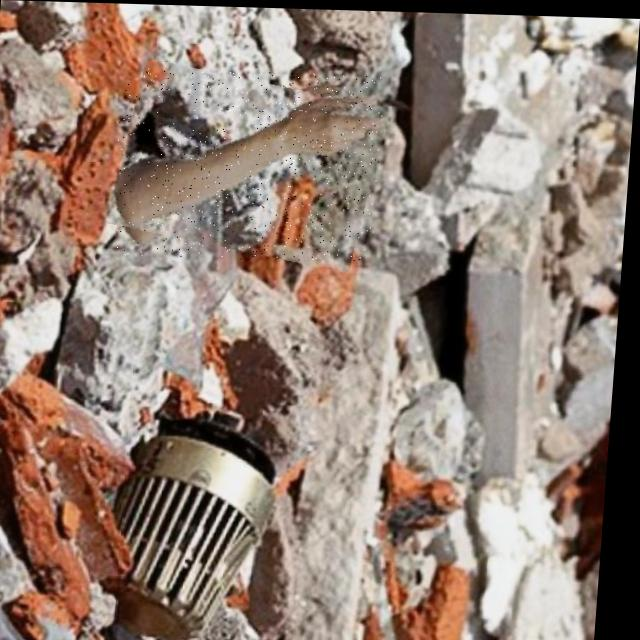Person in Rubble: (112, 67, 385, 261)
